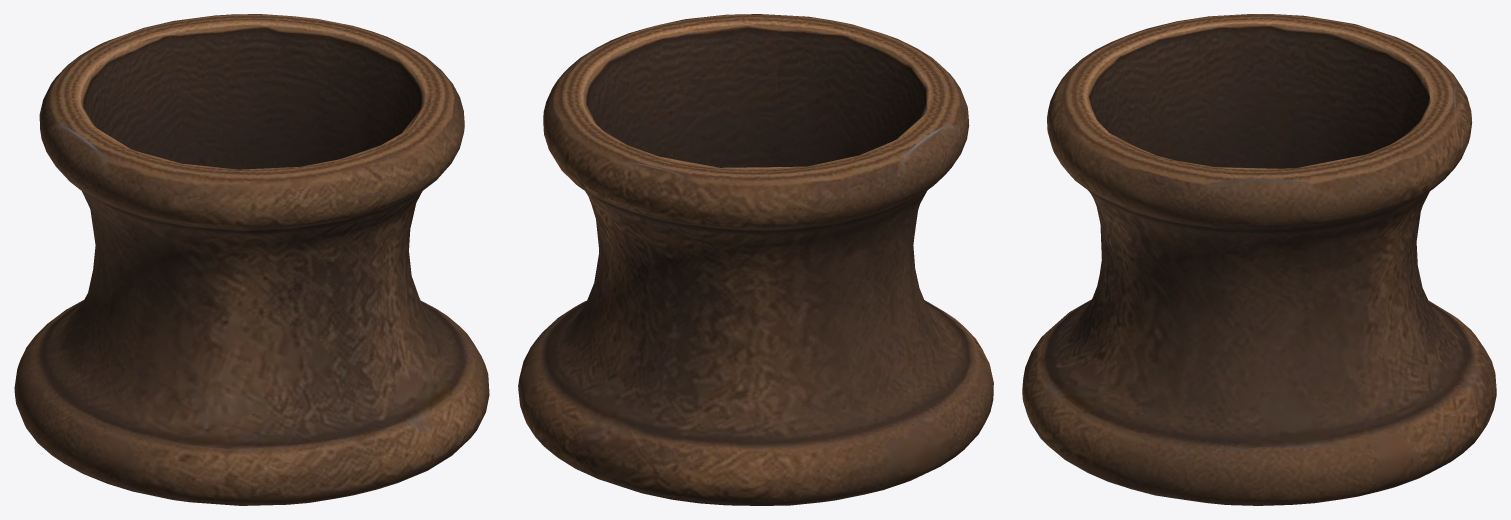
File: obj_crystal_holder.glb
The picture shows the model from 3 angles, left to right: view 1: azimuth 30°, elevation 25°; view 2: azimuth 150°, elevation 25°; view 3: azimuth 270°, elevation 25°; orthographic projection.
Visible parts, largest first — view 1: Mesh_0; view 2: Mesh_0; view 3: Mesh_0.
Boxes of the visible parts, x1,y1,x2,y2 form: Mesh_0: (14, 14, 489, 505); Mesh_0: (518, 14, 993, 505); Mesh_0: (1022, 14, 1496, 505).
Size of the model in its own units: 1.9 by 1.41 by 1.9.
1 material, 1 textured.
